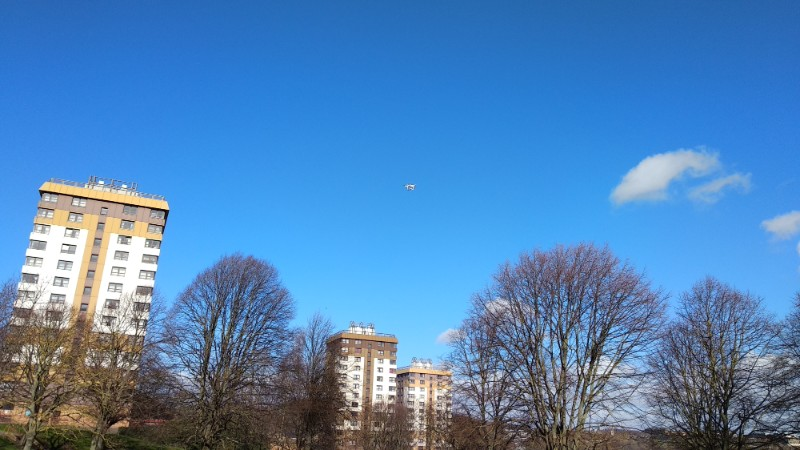drone: (405, 183, 417, 193)
